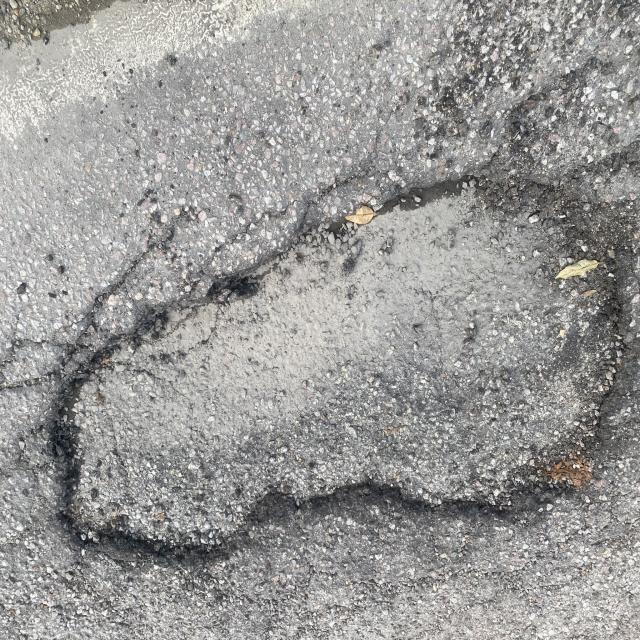pothole: (6, 166, 640, 577)
